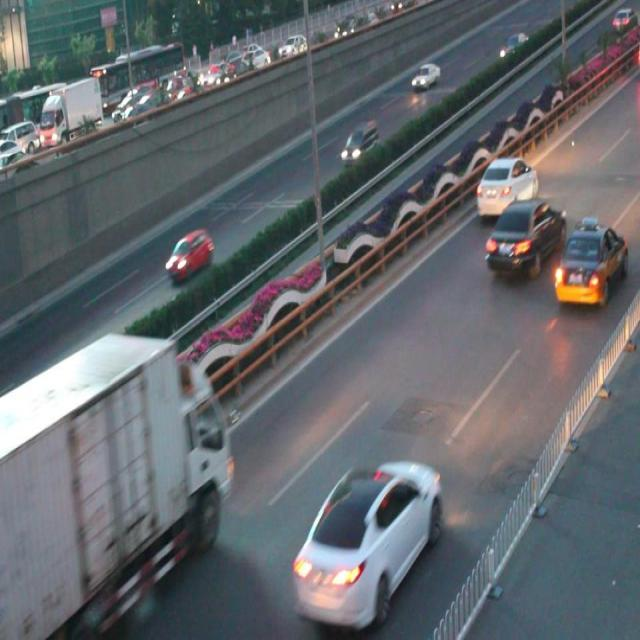bus: (1, 334, 232, 633)
car: (290, 457, 440, 614), (554, 216, 626, 306), (482, 201, 566, 274), (9, 424, 76, 493), (476, 152, 536, 219), (164, 226, 213, 280), (339, 122, 380, 164), (408, 60, 440, 92)
